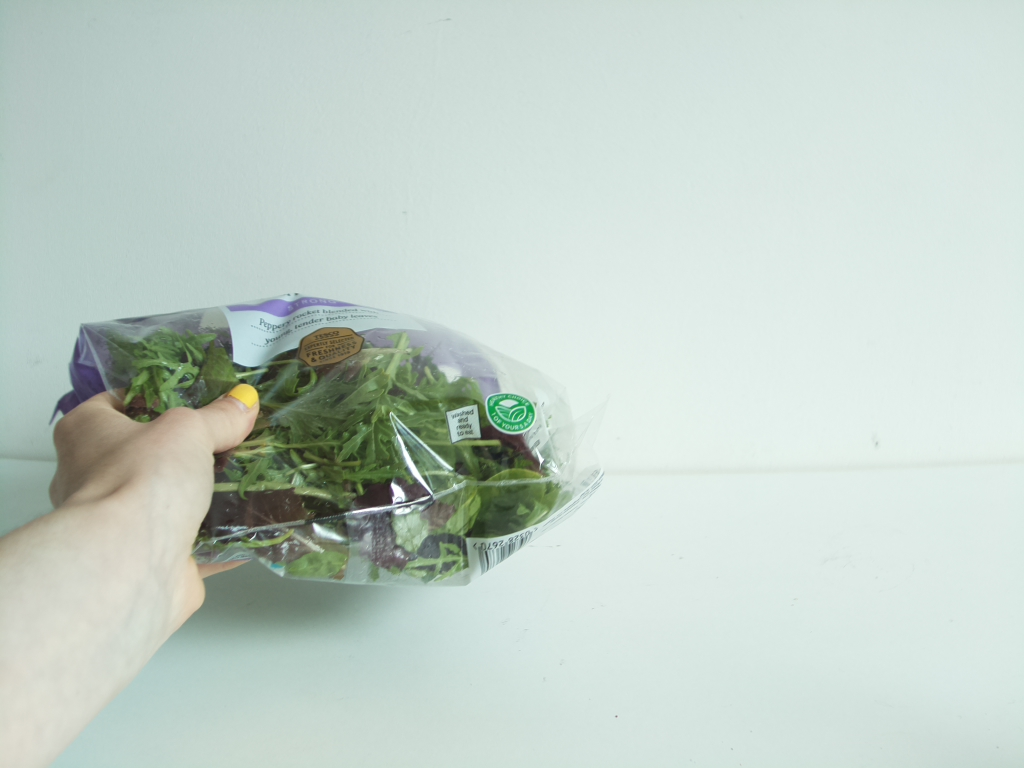salad: (52, 294, 596, 587)
